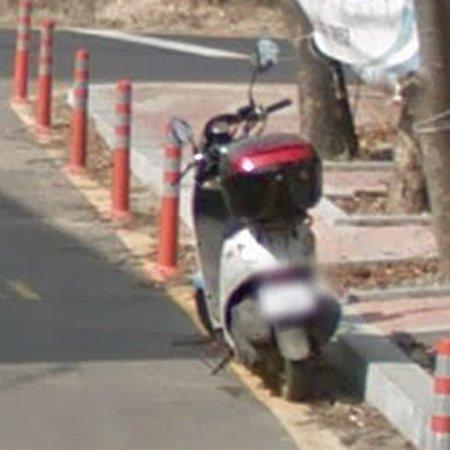motorcycles: (193, 39, 342, 400)
